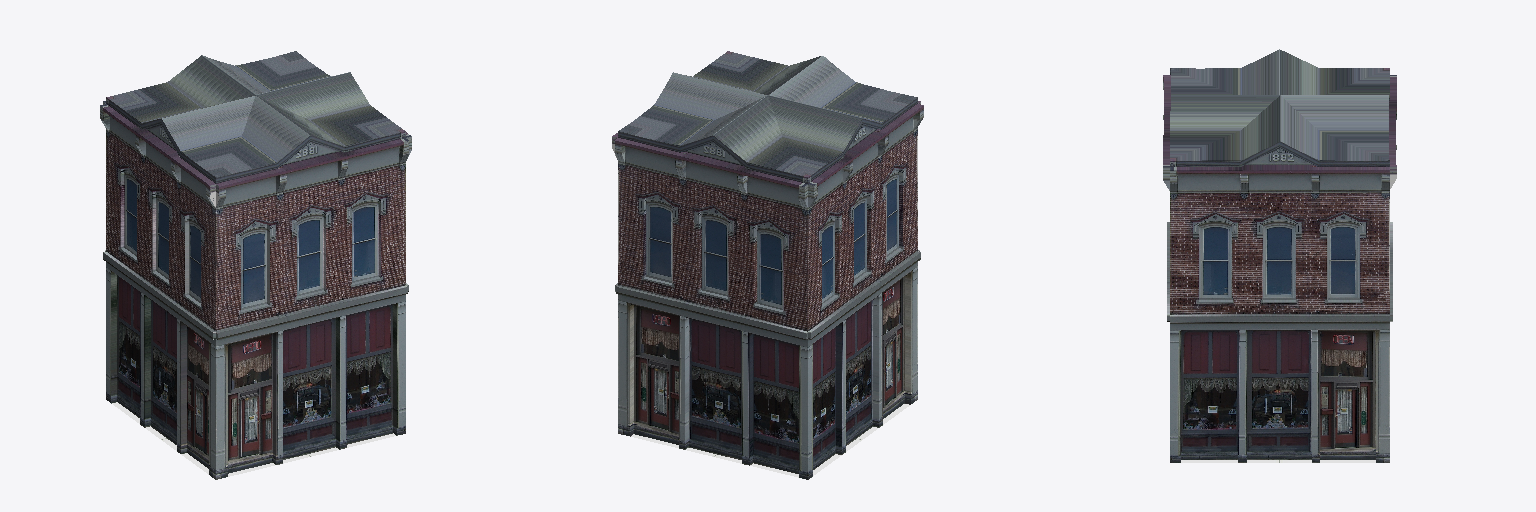
The picture shows the model from 3 angles: view 1: azimuth 30°, elevation 25°; view 2: azimuth 150°, elevation 25°; view 3: azimuth 270°, elevation 25°; orthographic projection.
Visible parts, largest first — view 1: Object_building1_texture_jpg; view 2: Object_building1_texture_jpg; view 3: Object_building1_texture_jpg.
Boxes of the visible parts, <box> form: Object_building1_texture_jpg: <box>100,51,411,479</box>; Object_building1_texture_jpg: <box>612,51,923,479</box>; Object_building1_texture_jpg: <box>1163,49,1396,462</box>.
Bounding box in the file's own units: 1.65 × 2.5 × 1.65.
1 materials, 1 textured.